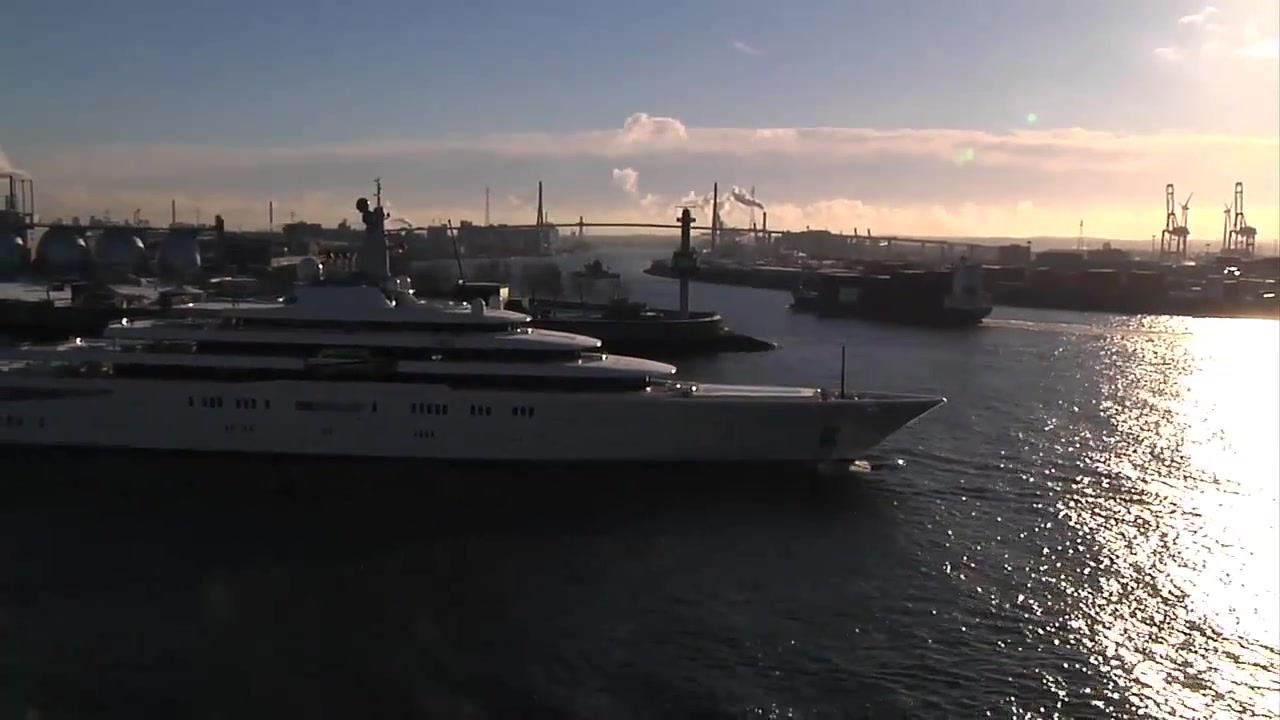boat: (1, 175, 950, 486)
